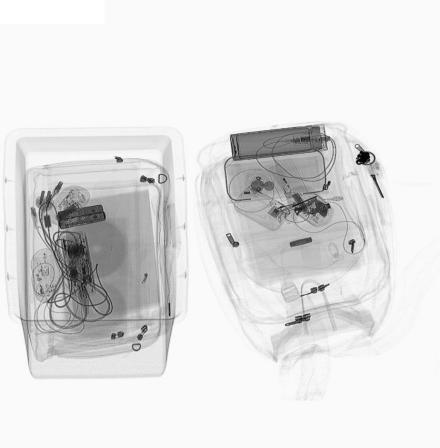Lighter: (267, 163, 299, 199)
